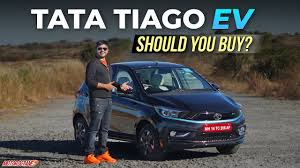Tiago: (124, 59, 248, 160)
